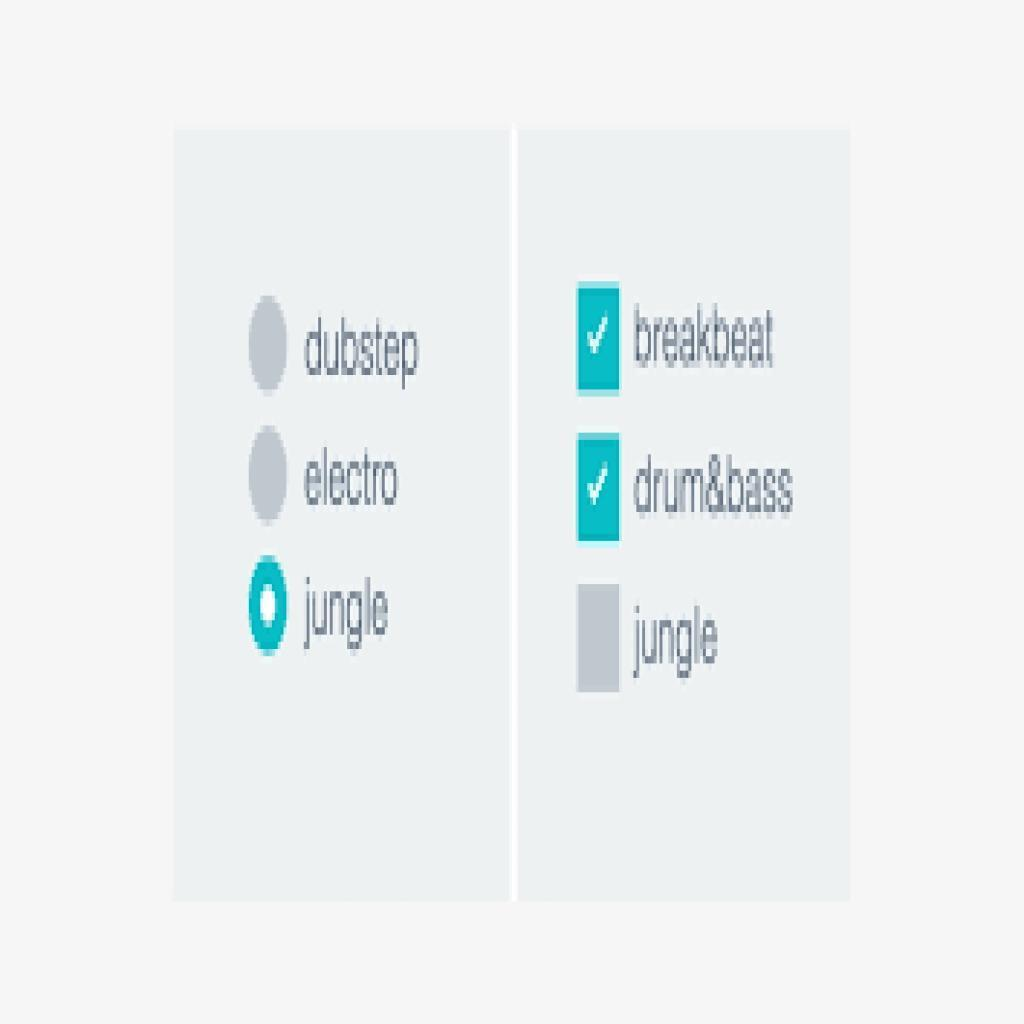checkbox: (575, 434, 622, 542), (576, 288, 622, 398), (579, 583, 621, 692)
label: (626, 299, 783, 372), (634, 454, 795, 524), (304, 316, 420, 382), (299, 573, 393, 646), (629, 604, 719, 672), (302, 449, 402, 510)
radio: (246, 541, 293, 667), (247, 287, 293, 408), (246, 414, 293, 527)
